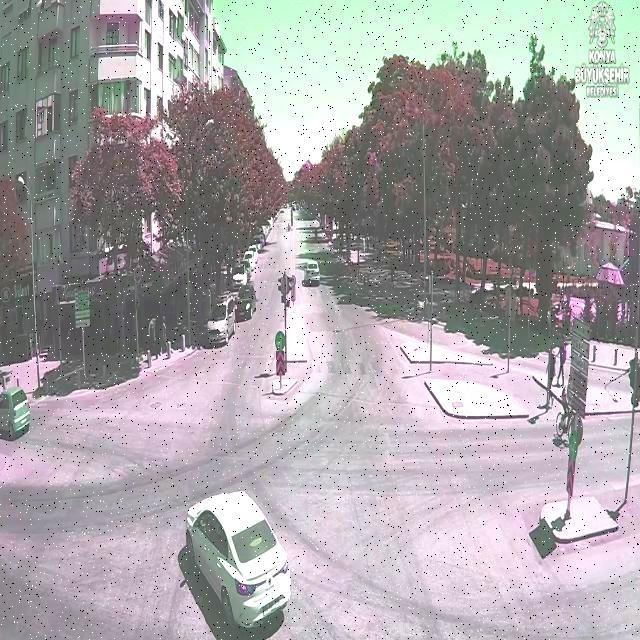Car: (175, 473, 303, 632), (0, 388, 43, 449), (203, 298, 239, 350), (298, 256, 331, 293), (232, 285, 256, 322)
Cycle: (552, 391, 589, 443)
